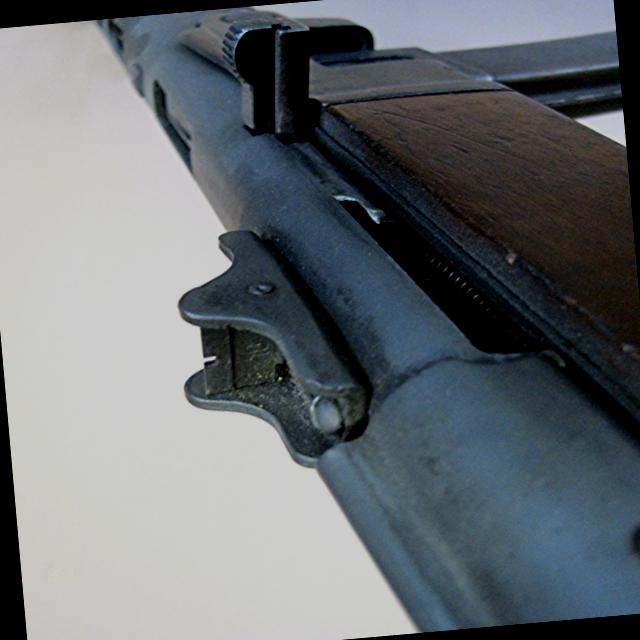handgun: (91, 0, 639, 639)
